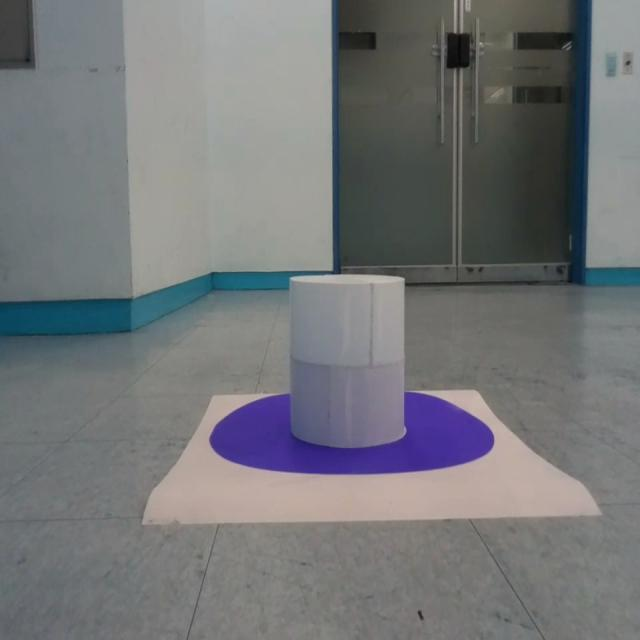cylinder: (289, 274, 407, 449)
